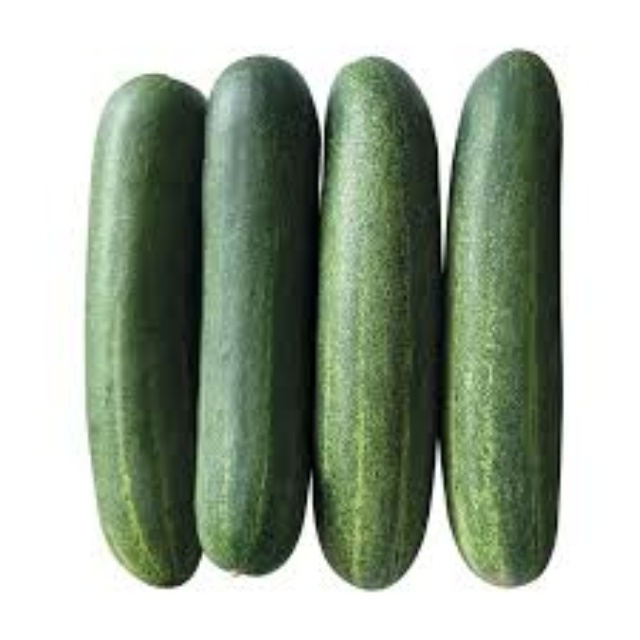dua_leo: (194, 54, 323, 580), (315, 55, 441, 592), (443, 41, 565, 589), (84, 68, 211, 589)
